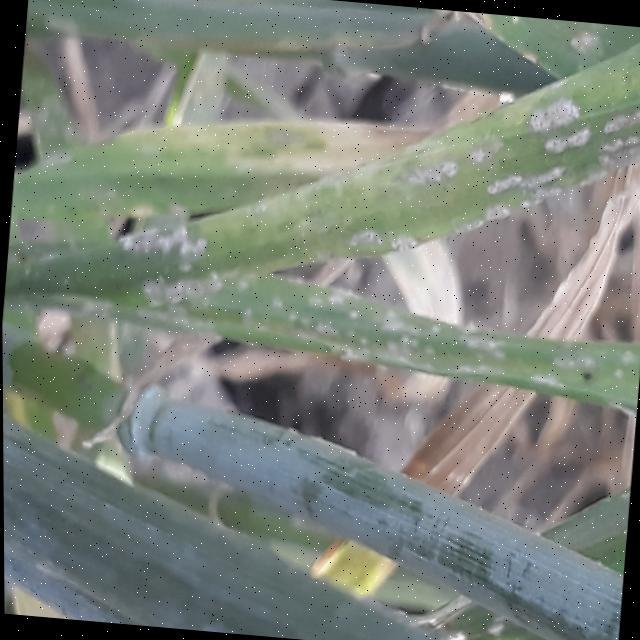powder_mildew: (5, 0, 640, 304), (1, 250, 640, 423), (396, 589, 562, 640)
